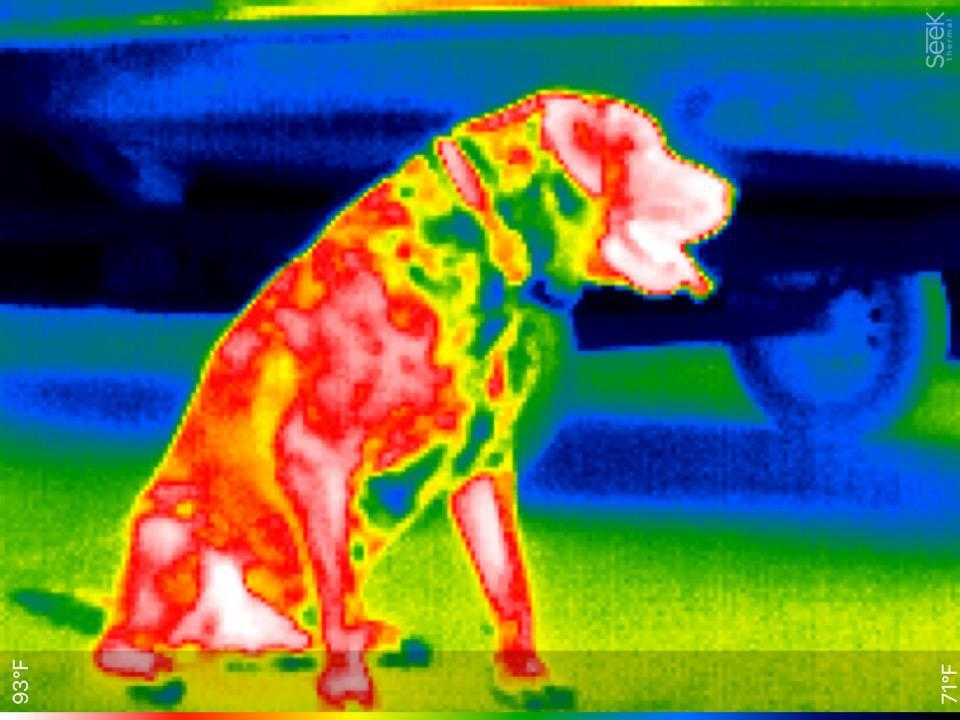dog: (73, 81, 759, 706)
